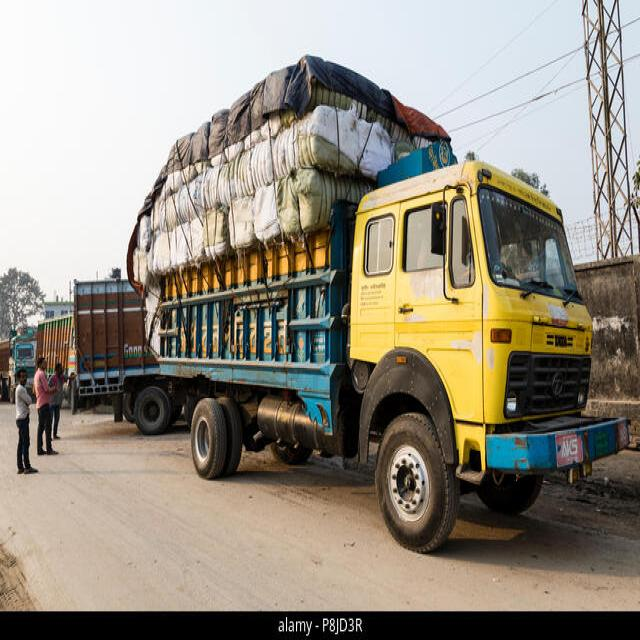normal_truck: (159, 165, 629, 550)
overloaded_truck: (128, 57, 455, 289)
